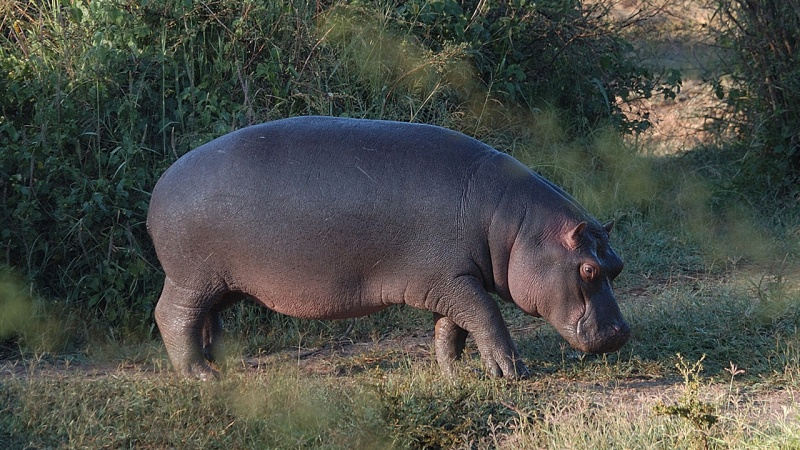hipopotamo: (141, 111, 634, 384)
